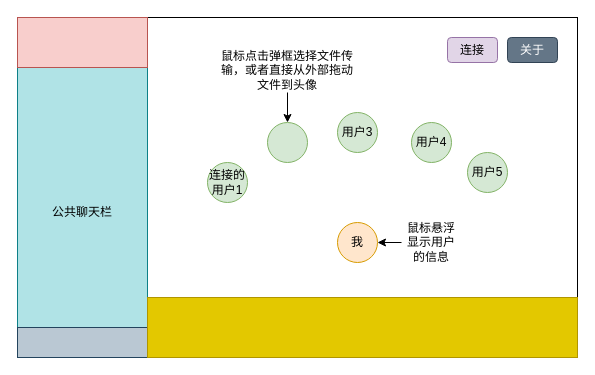
Image size: 595x375. Some labels were removed from this diagram. The centre of each missing label's shape, as x and y in pixels:
LOGO: (x=82, y=42)
广告位: (x=362, y=327)
用户2: (x=287, y=142)
聊天输入栏: (x=82, y=342)
